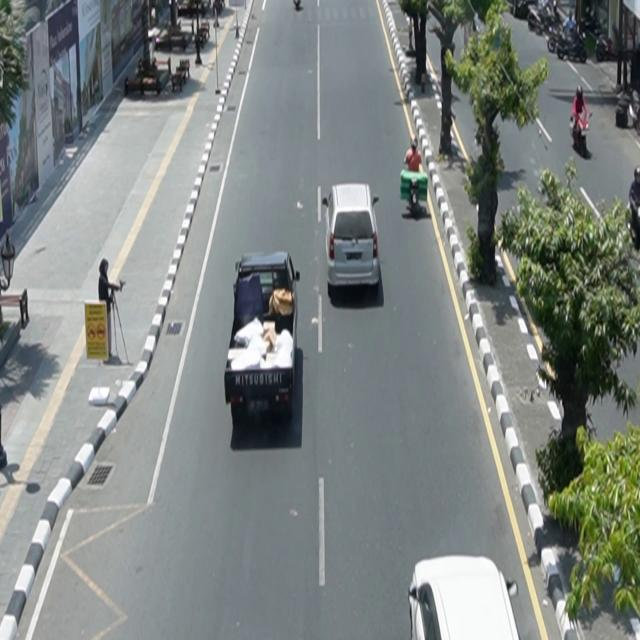car: (225, 251, 301, 424), (408, 555, 522, 640), (323, 183, 381, 291)
